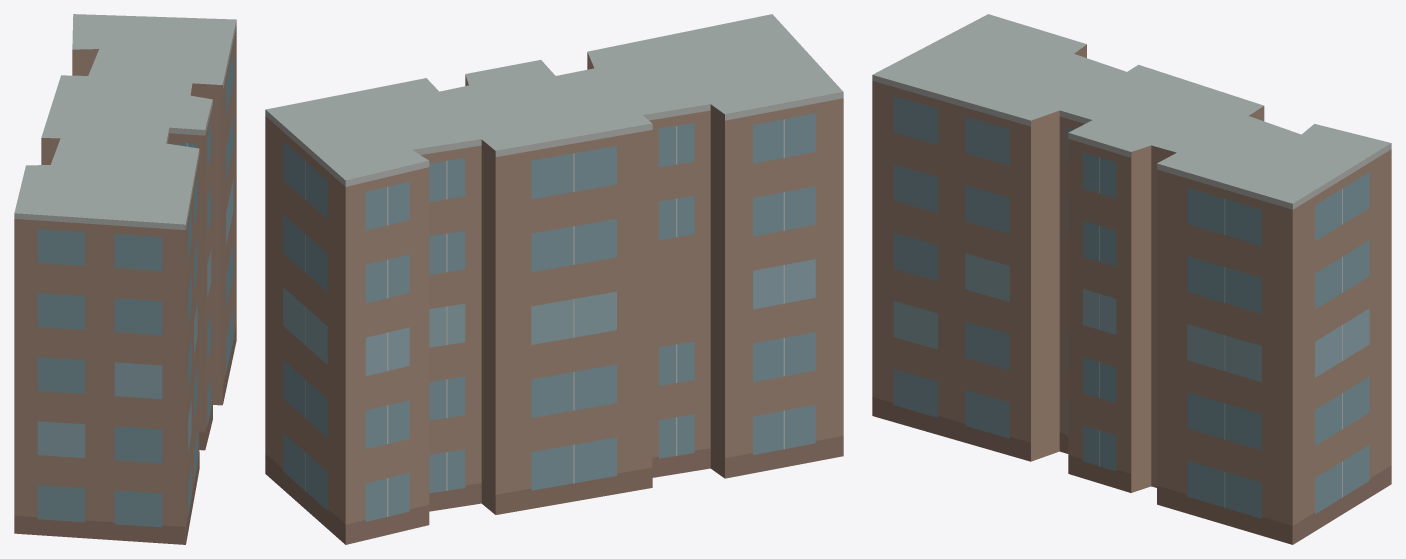
Rendered from survey-upis-32944362.glb.
3 renders of one model, left to right at view 1: azimuth 30°, elevation 25°; view 2: azimuth 150°, elevation 25°; view 3: azimuth 270°, elevation 25°, orthographic. The views are drawn at different scales.
Visible parts, largest first — view 1: survey-upis-32944362.tmp; view 2: survey-upis-32944362.tmp; view 3: survey-upis-32944362.tmp.
Part boxes in pixels (bbox=[...]): survey-upis-32944362.tmp: bbox=[14, 14, 236, 544]; survey-upis-32944362.tmp: bbox=[265, 14, 843, 544]; survey-upis-32944362.tmp: bbox=[872, 14, 1391, 544].
Size of the model in its own units: 16.66 by 13.95 by 19.26.
